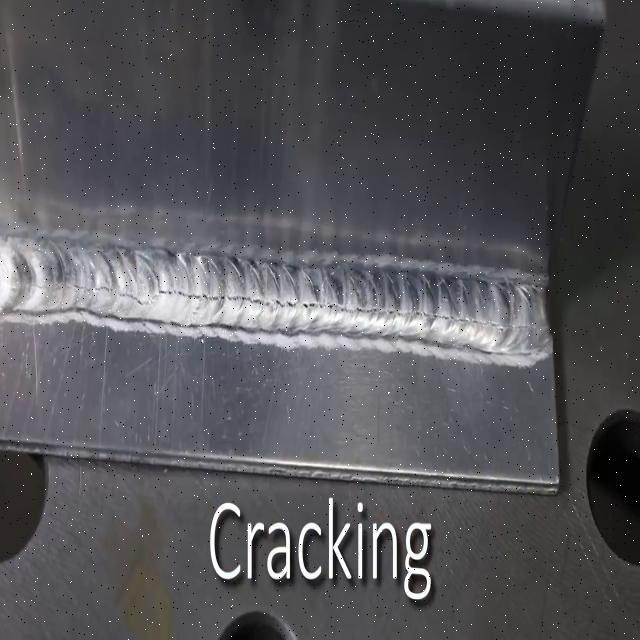Crack: (1, 233, 550, 364)
